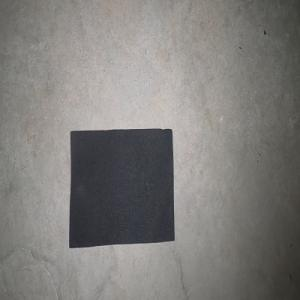PaintChip: (69, 128, 174, 248)
